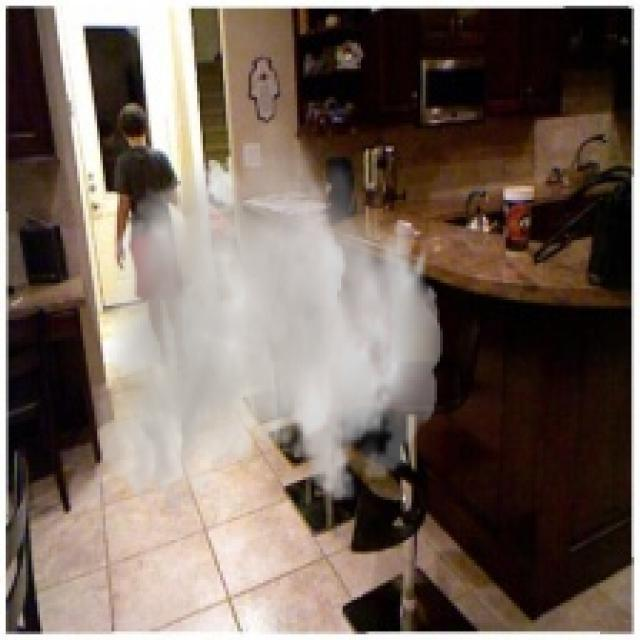Smoke: (94, 106, 443, 514)
